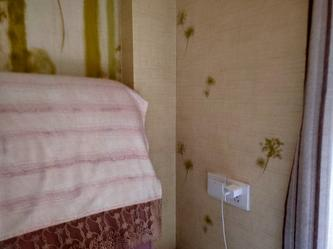switch: (209, 177, 223, 199)
